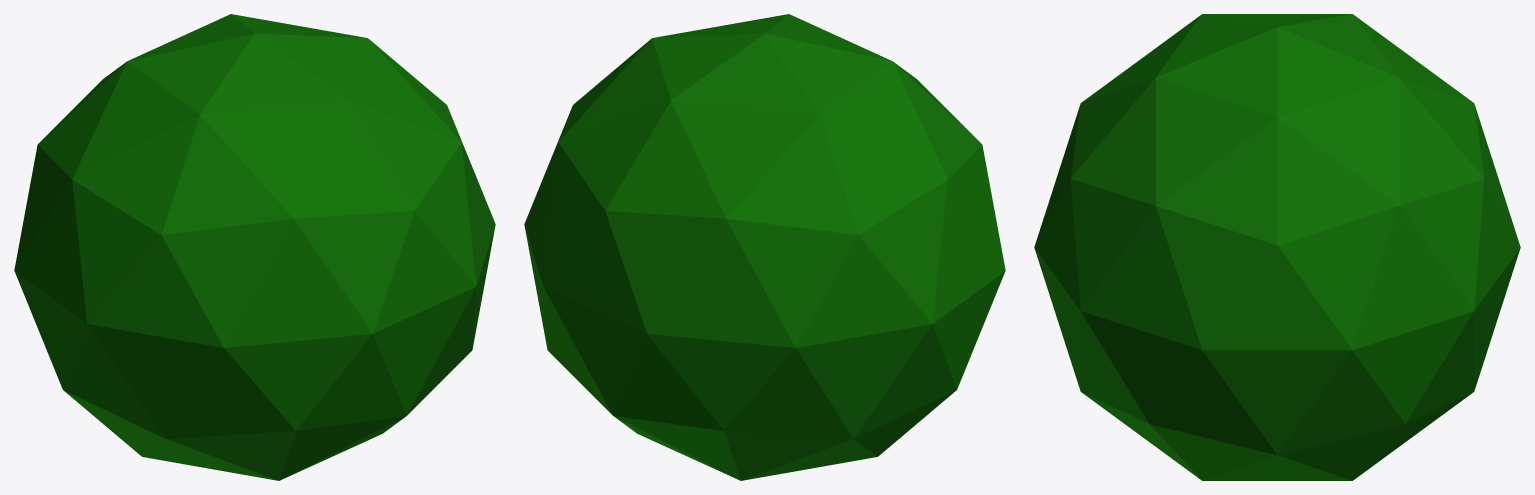
File: Grenade.fbx
The picture shows the model from 3 angles, left to right: view 1: azimuth 30°, elevation 25°; view 2: azimuth 150°, elevation 25°; view 3: azimuth 270°, elevation 25°; orthographic projection. The views are drawn at different scales.
Visible parts, largest first — view 1: Grenade; view 2: Grenade; view 3: Grenade.
Boxes of the visible parts, box(x1,y1,x2,y2) form: Grenade: box(14, 14, 495, 480); Grenade: box(524, 14, 1005, 480); Grenade: box(1034, 14, 1520, 480).
Size of what is drawn, in the model's own units: 3 by 3 by 3.
